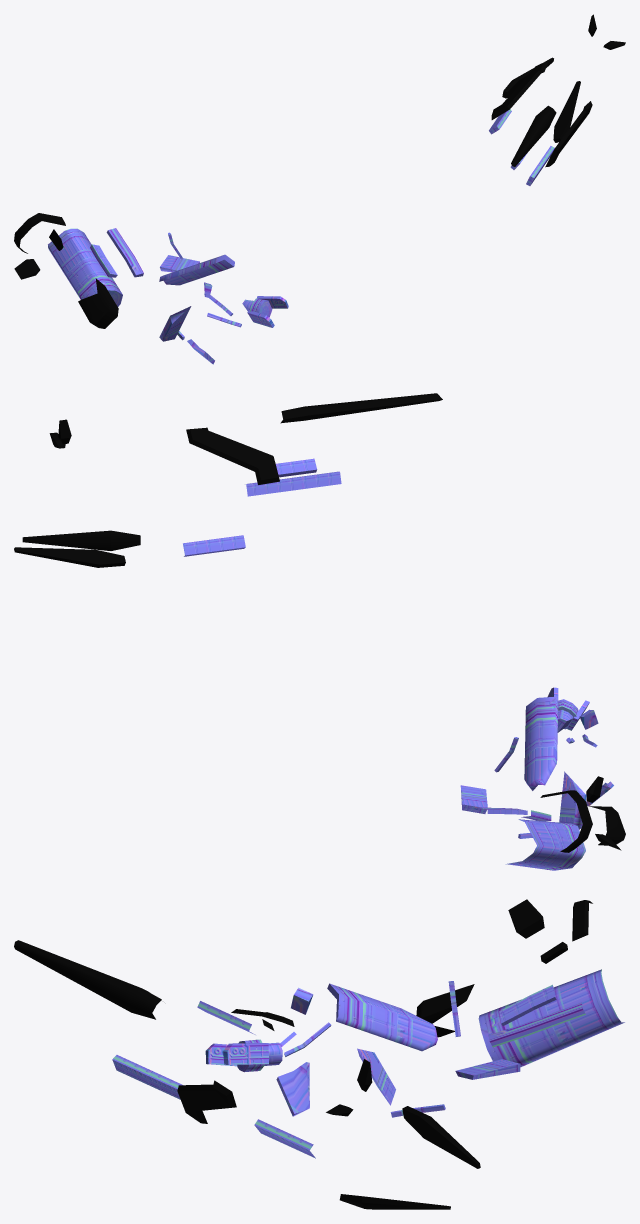
The model's file is prop_static_ama_shipwreck_01_02.glb.
3 renders of one model, top to bottom at view 1: azimuth 30°, elevation 25°; view 2: azimuth 150°, elevation 25°; view 3: azimuth 270°, elevation 25°, orthographic. The views are drawn at different scales.
Parts seen in each view (by area): view 1: ama_ship_wreck_details_01_02_LOD0, ama_ship_wreck_01_02_LOD0; view 2: ama_ship_wreck_details_01_02_LOD0, ama_ship_wreck_01_02_LOD0; view 3: ama_ship_wreck_details_01_02_LOD0, ama_ship_wreck_01_02_LOD0.
Boxes of the visible parts, x1,y1,x2,y2 form: ama_ship_wreck_details_01_02_LOD0: (48, 109, 554, 364); ama_ship_wreck_01_02_LOD0: (14, 14, 625, 328); ama_ship_wreck_details_01_02_LOD0: (183, 458, 613, 870); ama_ship_wreck_01_02_LOD0: (14, 393, 625, 852); ama_ship_wreck_details_01_02_LOD0: (112, 969, 624, 1158); ama_ship_wreck_01_02_LOD0: (14, 899, 592, 1209).
Size of what is drawn, in the model's own units: 10.5 by 4.37 by 6.74.
2 materials, 2 textured.
